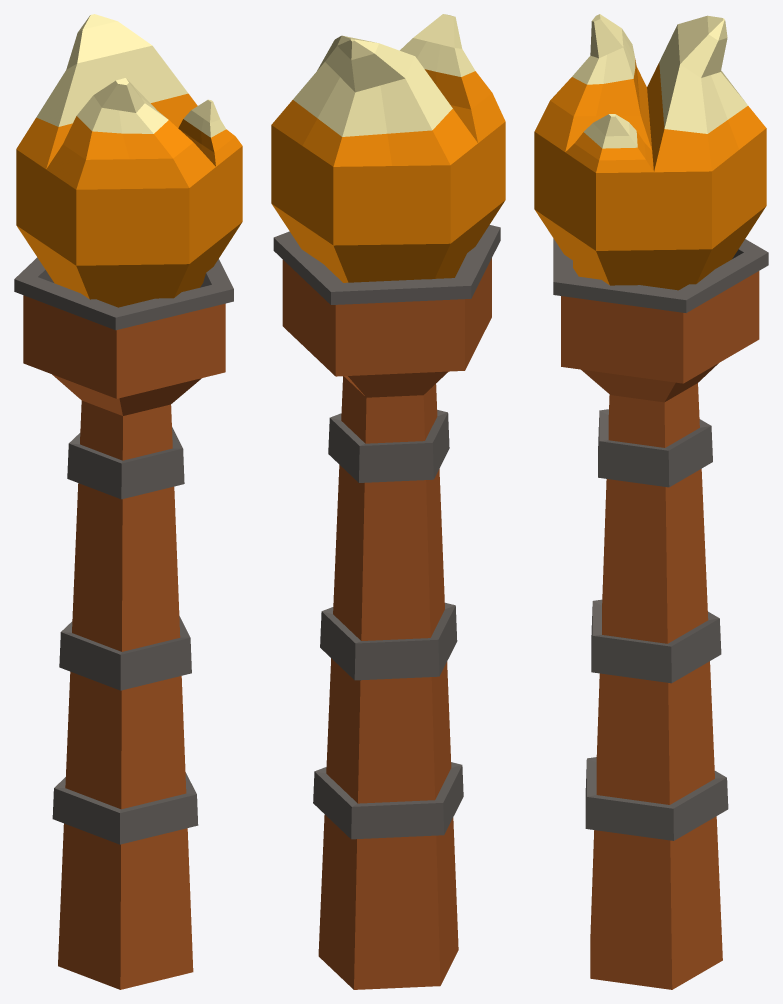
The model's file is TORCH_Light 1.fbx.
3 views of the same model, side by side, from view 1: azimuth 30°, elevation 25°; view 2: azimuth 150°, elevation 25°; view 3: azimuth 270°, elevation 25° (orthographic). The views are drawn at different scales.
Parts seen in each view (by area): view 1: Cube.048; view 2: Cube.048; view 3: Cube.048.
Boxes of the visible parts, <box> form: Cube.048: <box>14,14,242,989</box>; Cube.048: <box>271,14,505,989</box>; Cube.048: <box>534,14,768,989</box>.
Size of the model in its own units: 83.2 by 382 by 86.06.
